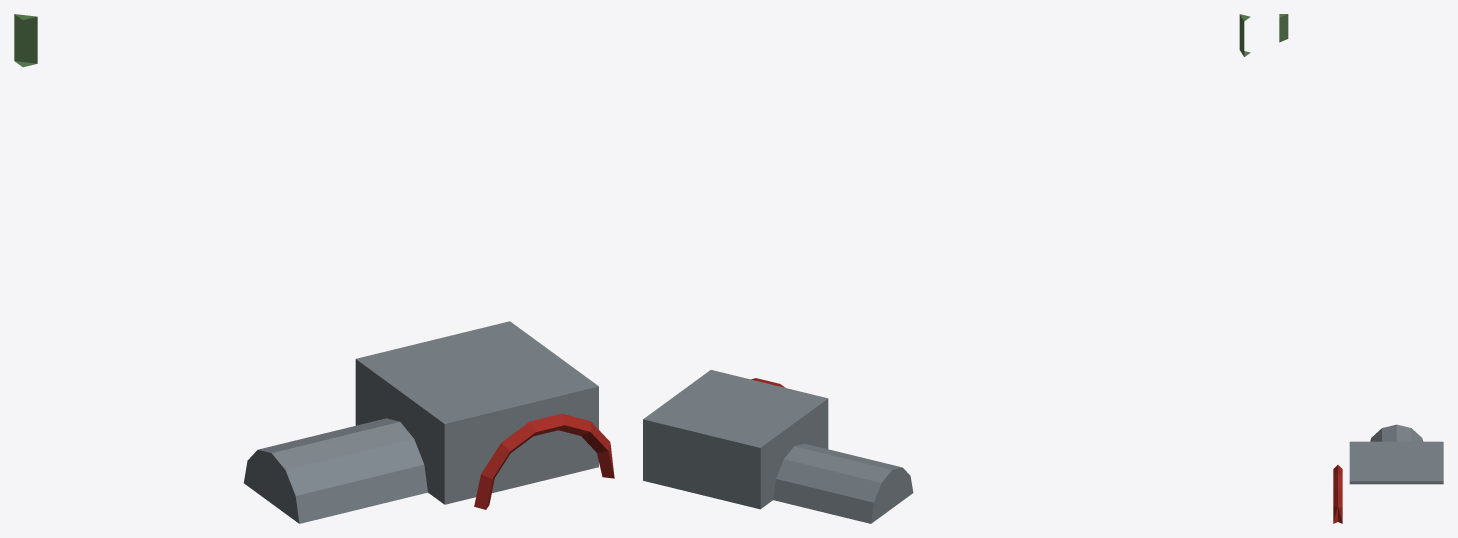
The model's file is cell_18.obj.
The picture shows the model from 3 angles, left to right: view 1: azimuth 30°, elevation 25°; view 2: azimuth 150°, elevation 25°; view 3: azimuth 270°, elevation 25°; orthographic projection. The views are drawn at different scales.
Bounding box in the file's own units: 1 × 0.97 × 0.42.
